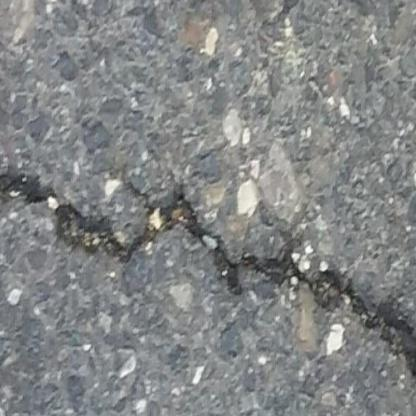Cracks: (0, 120, 416, 347)
